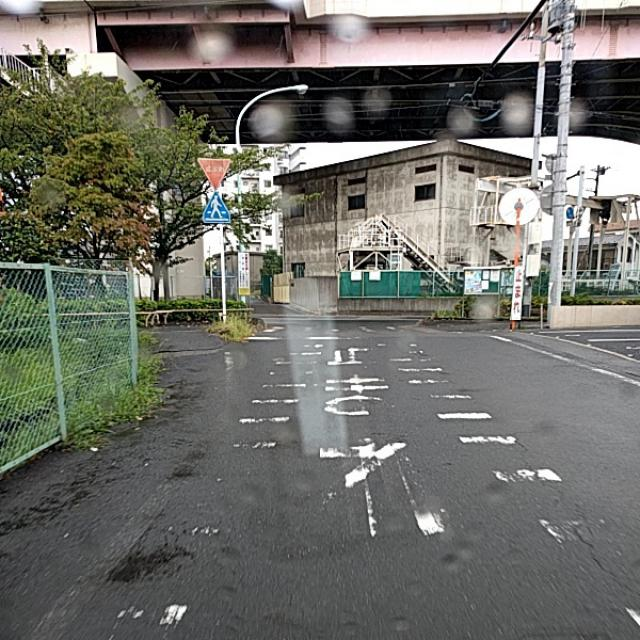pothole: (125, 533, 225, 575)
